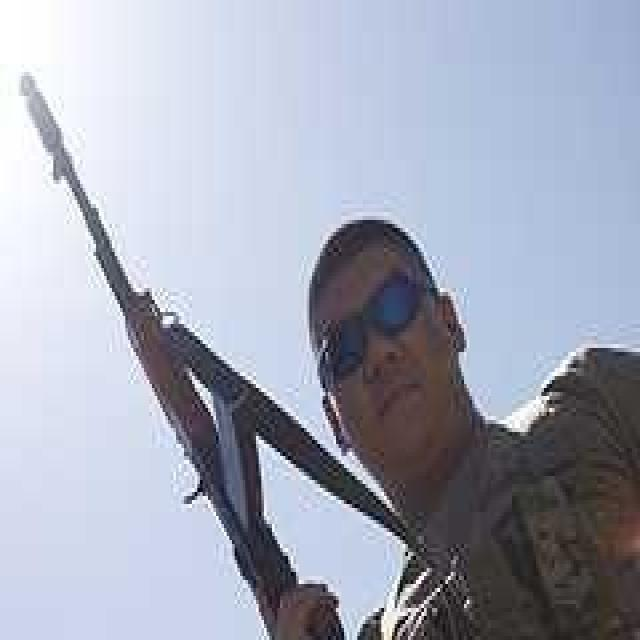Rifle: (15, 65, 349, 637)
